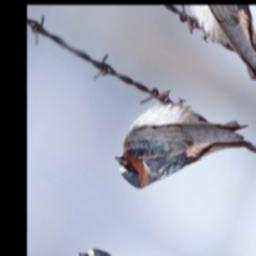Swallow: (110, 64, 256, 238)
